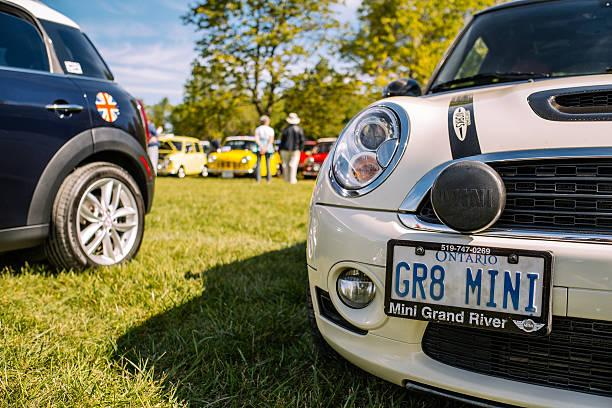licence: (381, 235, 556, 333)
